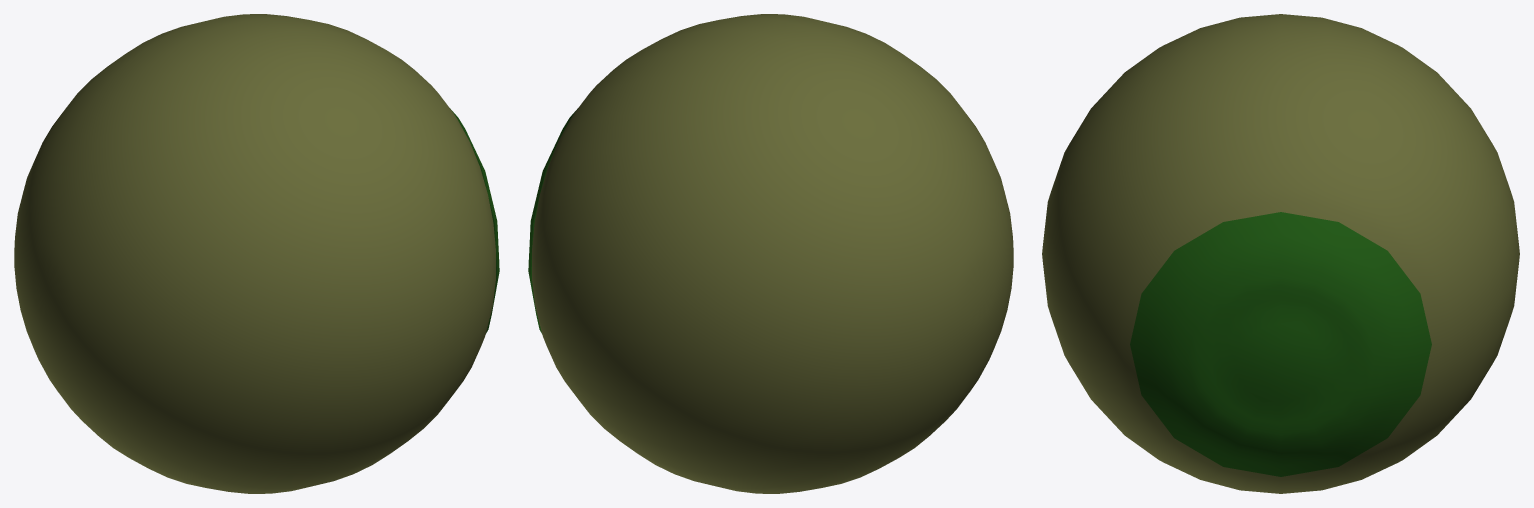
File: stylized.obj
The picture shows the model from 3 angles, left to right: view 1: azimuth 30°, elevation 25°; view 2: azimuth 150°, elevation 25°; view 3: azimuth 270°, elevation 25°; orthographic projection.
Visible parts, largest first — view 1: polySurface2_Mesh.001, polySurface1_Mesh; view 2: polySurface2_Mesh.001, polySurface1_Mesh; view 3: polySurface2_Mesh.001, polySurface1_Mesh.
Boxes of the visible parts, x1,y1,x2,y2 form: polySurface2_Mesh.001: (14, 14, 495, 493); polySurface1_Mesh: (450, 108, 499, 333); polySurface2_Mesh.001: (532, 14, 1013, 493); polySurface1_Mesh: (528, 108, 577, 333); polySurface2_Mesh.001: (1042, 14, 1519, 493); polySurface1_Mesh: (1130, 212, 1431, 476).
Bounding box in the file's own units: 0.0194 × 0.0195 × 0.0195.
